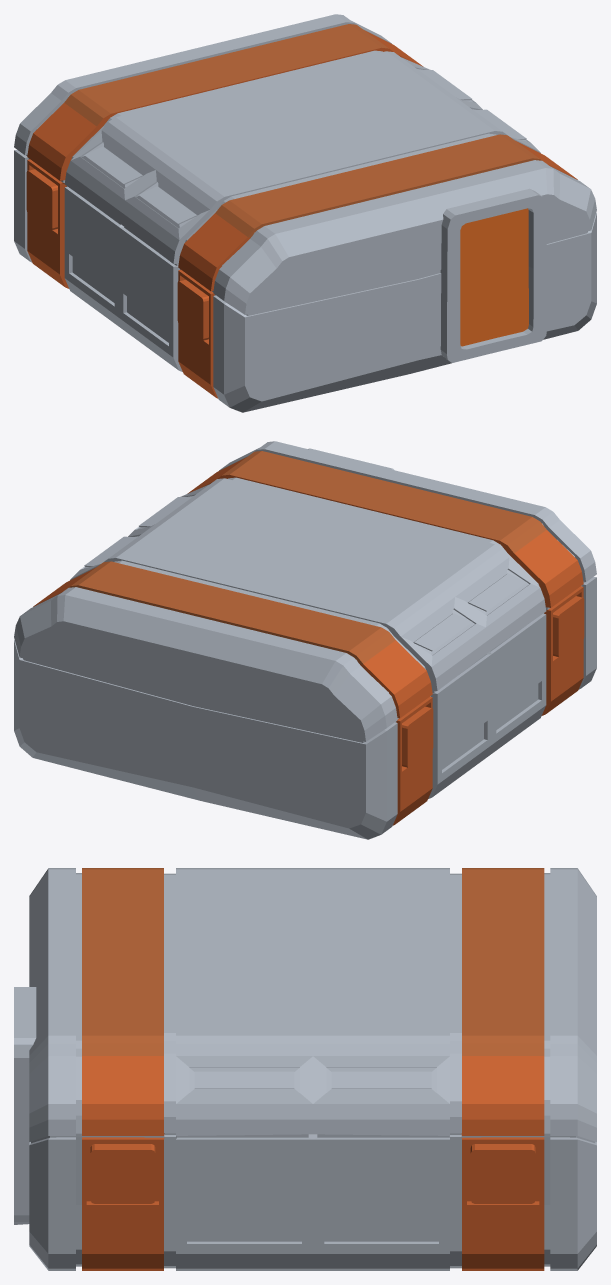
Rendered from Building_01.fbx.
3 renders of one model, top to bottom at view 1: azimuth 30°, elevation 25°; view 2: azimuth 150°, elevation 25°; view 3: azimuth 270°, elevation 25°, orthographic. The views are drawn at different scales.
Visible parts, largest first — view 1: Building_01; view 2: Building_01; view 3: Building_01.
Boxes of the visible parts, x1=… form: Building_01: x1=14, y1=14, x2=596, y2=412; Building_01: x1=14, y1=441, x2=596, y2=839; Building_01: x1=14, y1=868, x2=596, y2=1270.
Size of the model in its own units: 1108 by 484 by 1166.
1 material, 1 textured.
